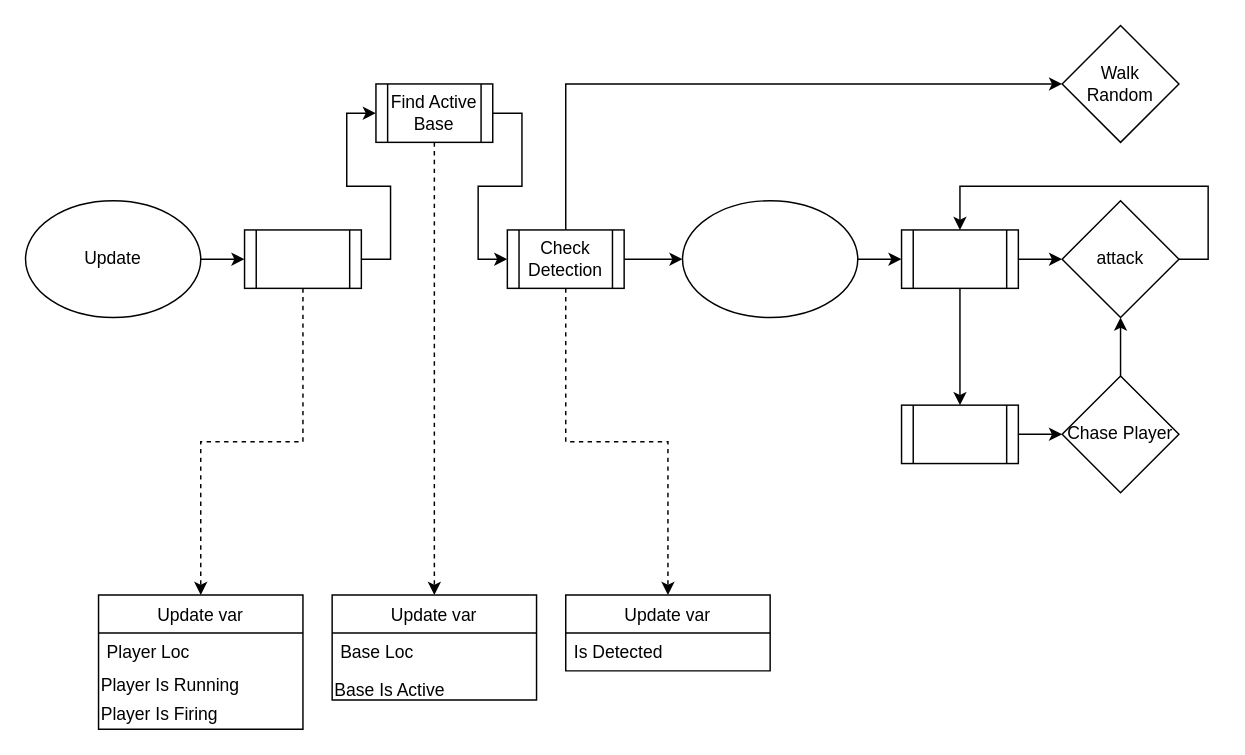
Some shapes in this 1245 by 755 pixel diagram are drawn without their labels. Here are the shapes that lost their labels. From the top down, the box of each, then its label:
(243, 228, 361, 288): Find Player
(681, 199, 858, 318): Attack Sequence
(900, 228, 1018, 288): Check Range
(900, 404, 1018, 464): Decide Attack Distance
